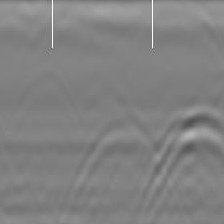Utility: (75, 116, 160, 186), (159, 106, 224, 186)
